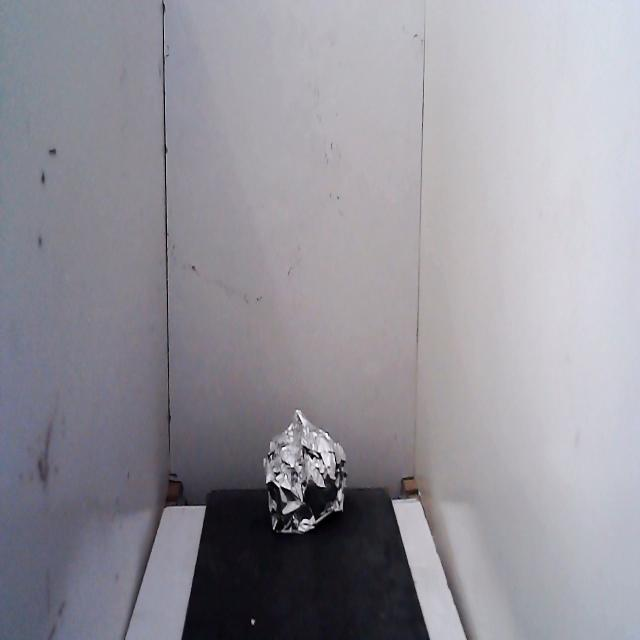metal: (244, 379, 365, 560)
